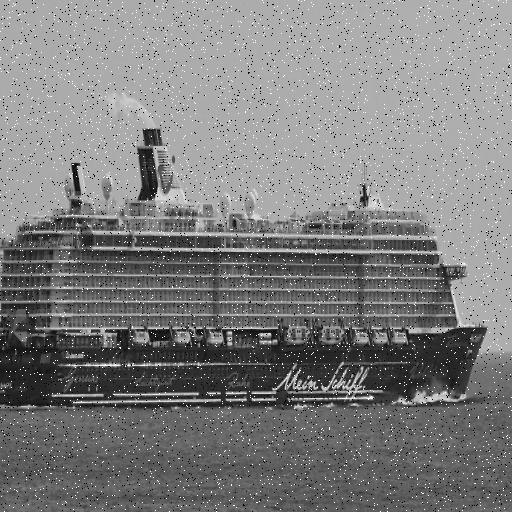cruises: (1, 124, 491, 413)
